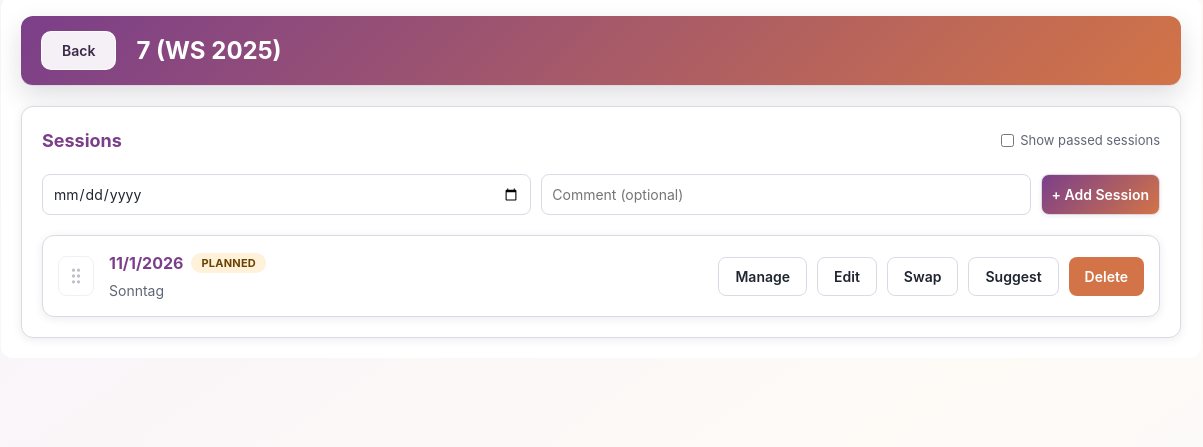
CourseDetail › disables dragging when only one session is visible
Expected: the button named "Move contents of session" is disabled, [58,256,94,296]
Click the checkbox labelled "Show passed sessions" at (1008, 140), box [1001,134,1014,147]
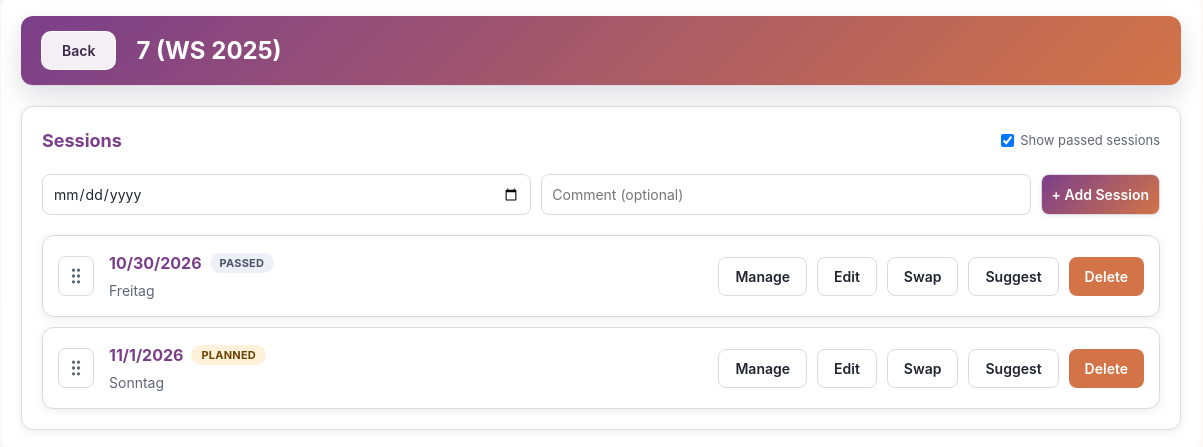
Expected: the number of buttons named "Move contents of session" is 2, [58,256,94,296]; [58,348,94,388]
Expected: the button named "Move contents of session" is enabled, [58,348,94,388]
